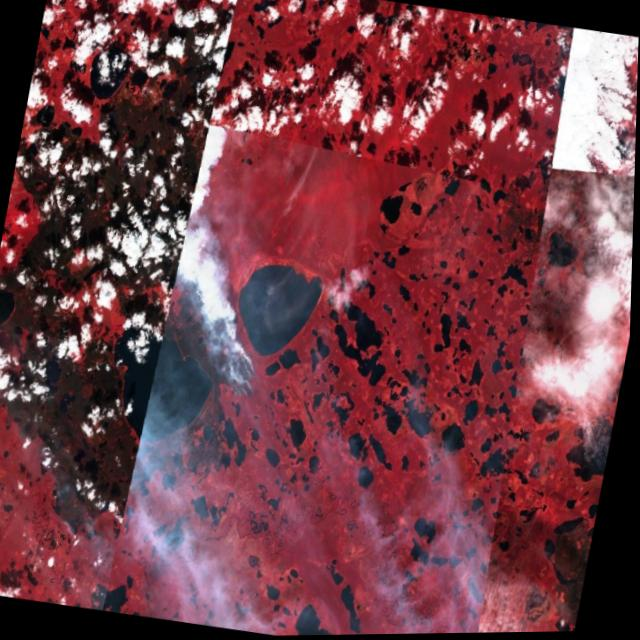fire: (142, 239, 286, 409)
